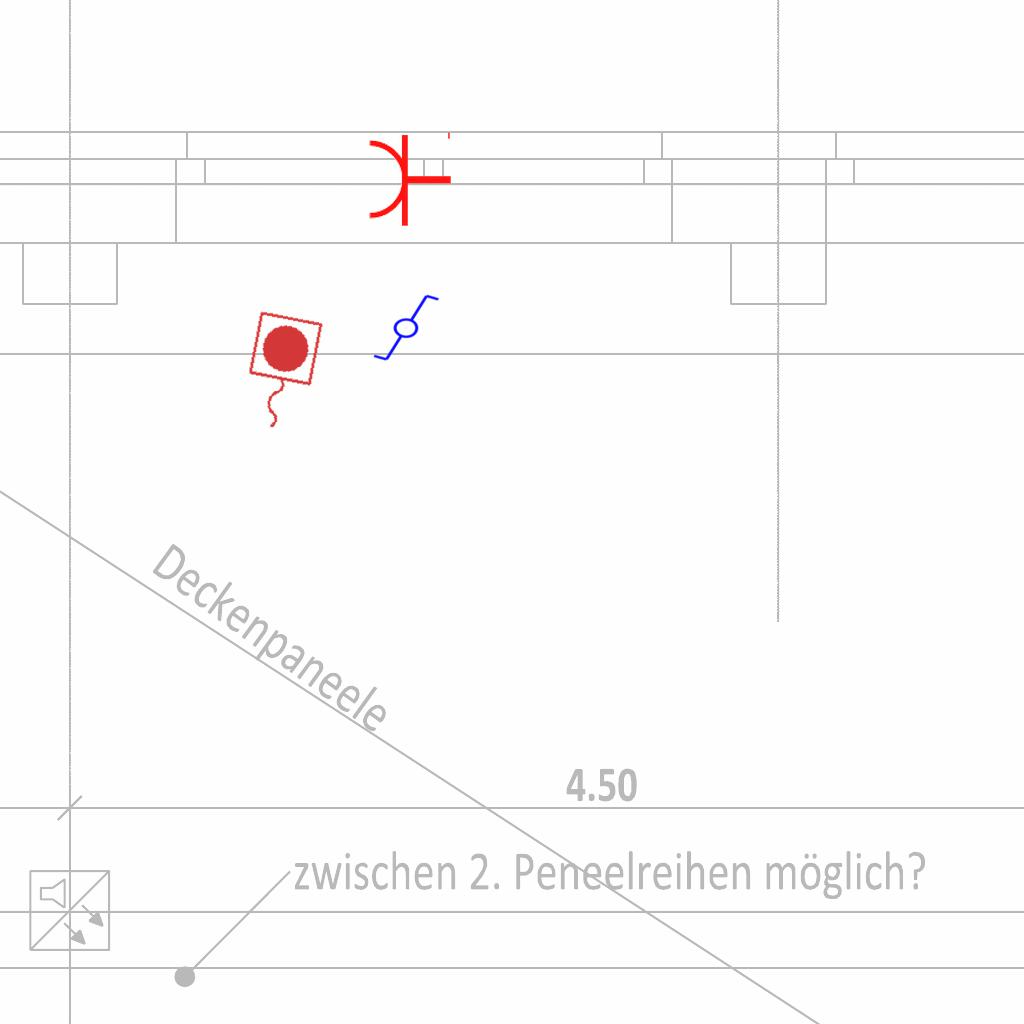Schukosteckdose_einfach: (366, 128, 453, 228)
Wechselschalter: (363, 291, 441, 363)
Zugtaster: (233, 306, 327, 440)
